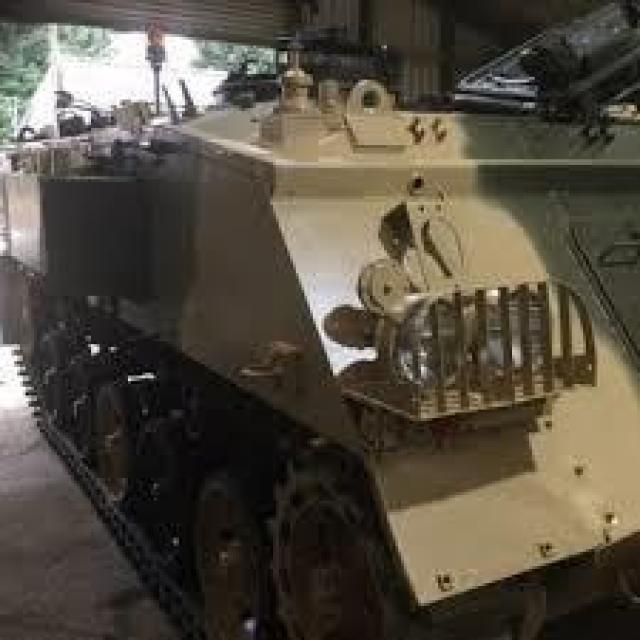Tanks: (3, 47, 634, 633)
